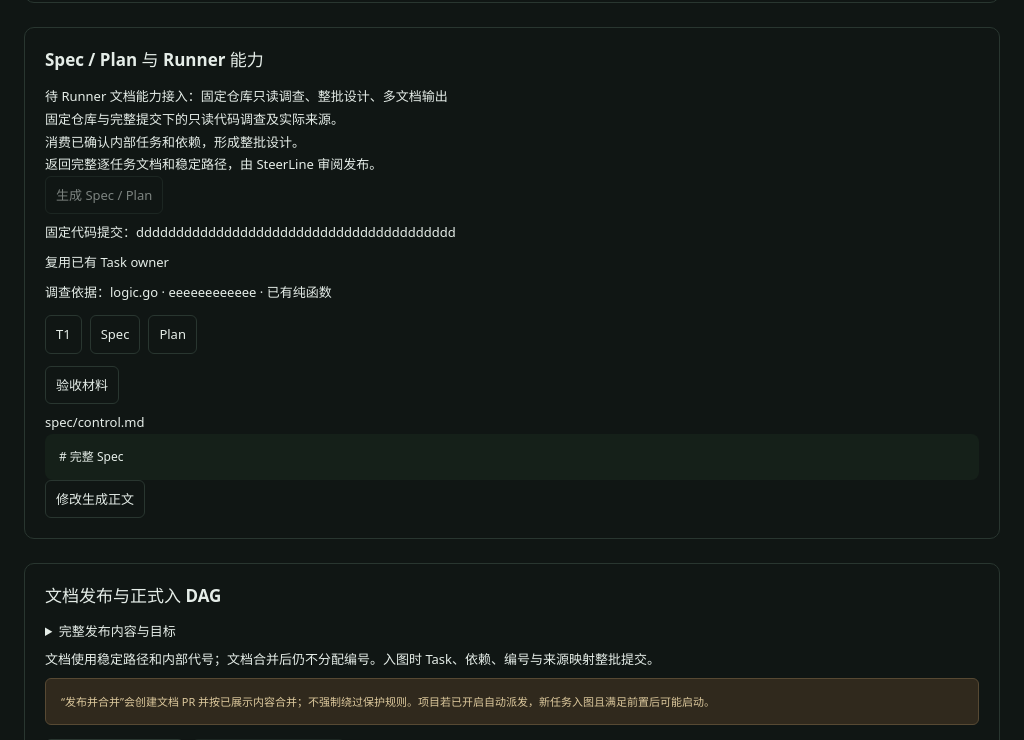
shows code evidence, acceptance material and the complete publication target before publishing
(page scrolled)
expect the text "logic.go" is shown: met, box left=110, top=283, right=158, bottom=301
Click the button "验收材料" at (82, 385), box left=45, top=366, right=119, bottom=404
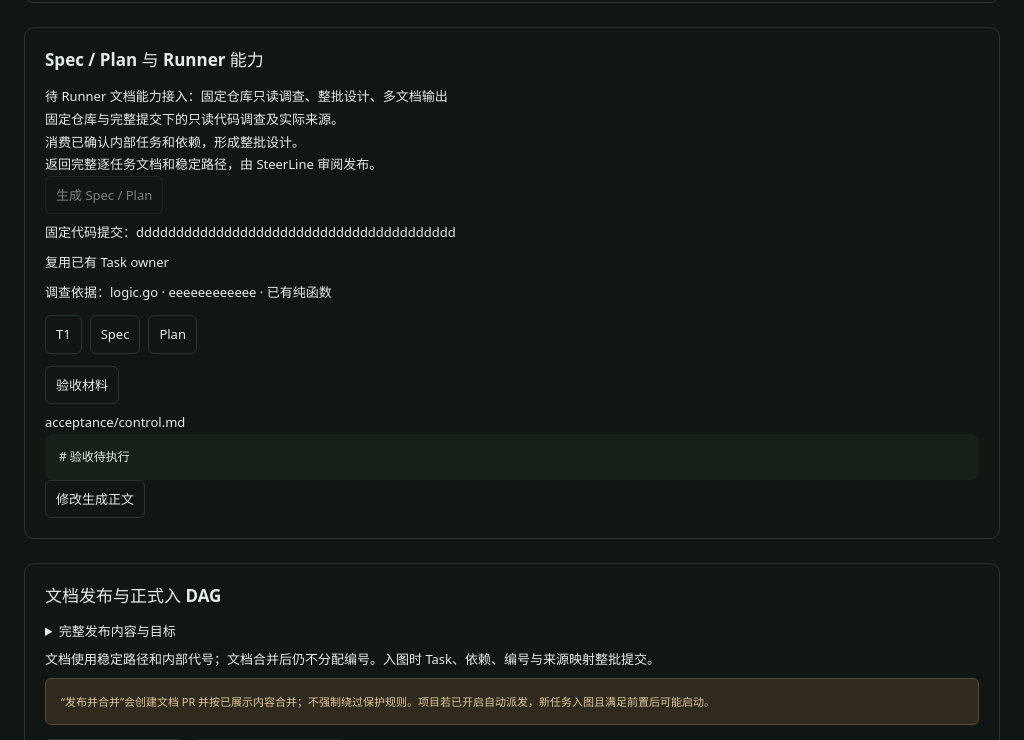
expect the text "# 验收待执行" is shown: met, box left=45, top=434, right=979, bottom=480
Click the heading "完整发布内容与目标" at (117, 631), box left=59, top=622, right=176, bottom=640
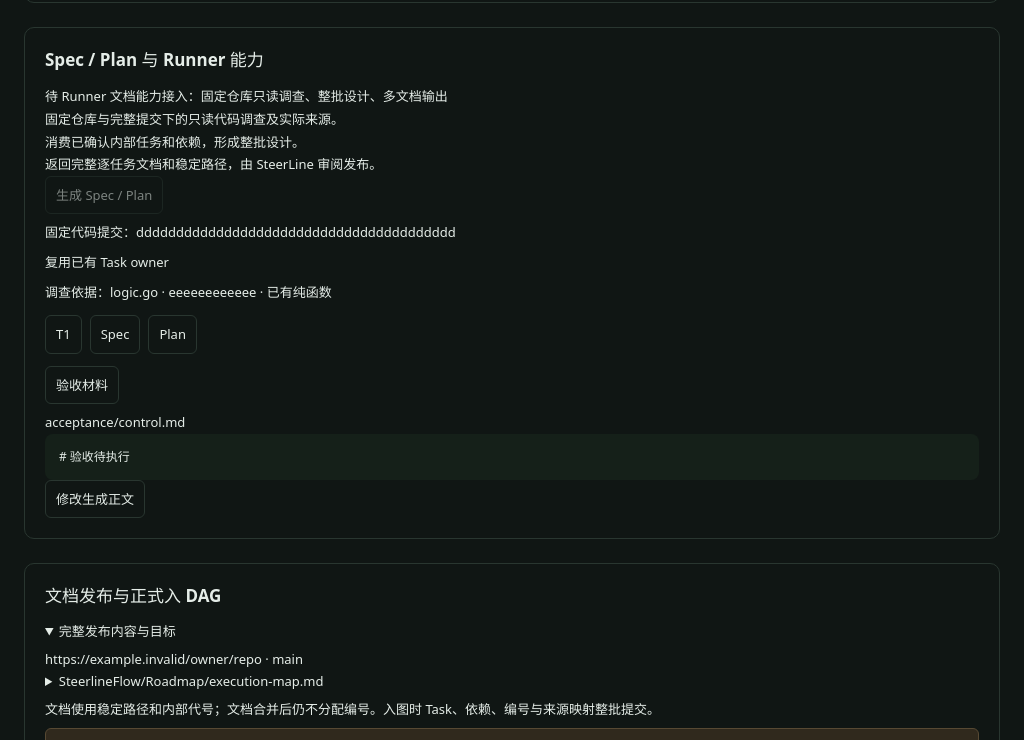
expect the text "https://example.invalid/owner/repo · main" is shown: met, box left=45, top=650, right=303, bottom=668
expect the heading "SteerlineFlow/Roadmap/execution-map.md" is shown: met, box left=59, top=672, right=324, bottom=690
